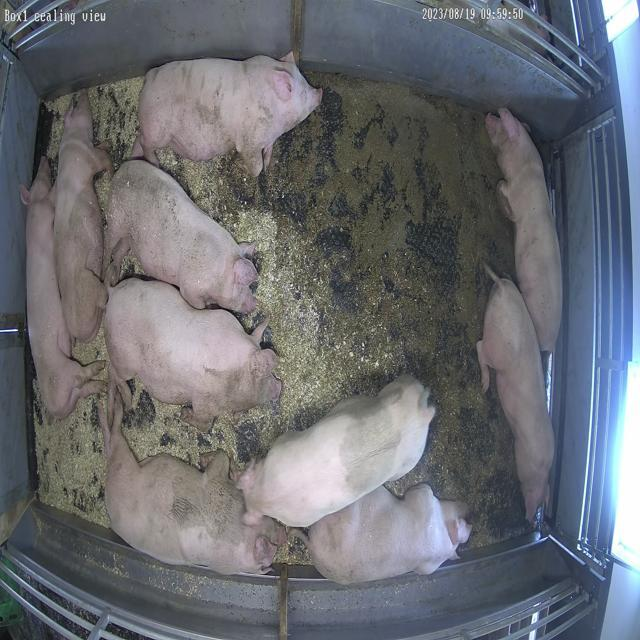Dirt: (256, 75, 526, 546)
Pig: (100, 387, 287, 576), (238, 376, 436, 528), (104, 278, 282, 430), (133, 51, 322, 176), (103, 160, 257, 313), (20, 157, 103, 418), (478, 266, 556, 524), (486, 108, 564, 352), (306, 486, 459, 586), (53, 90, 111, 342)
